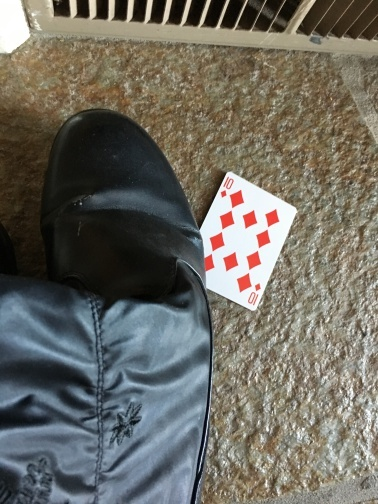ten: (201, 171, 297, 310)
